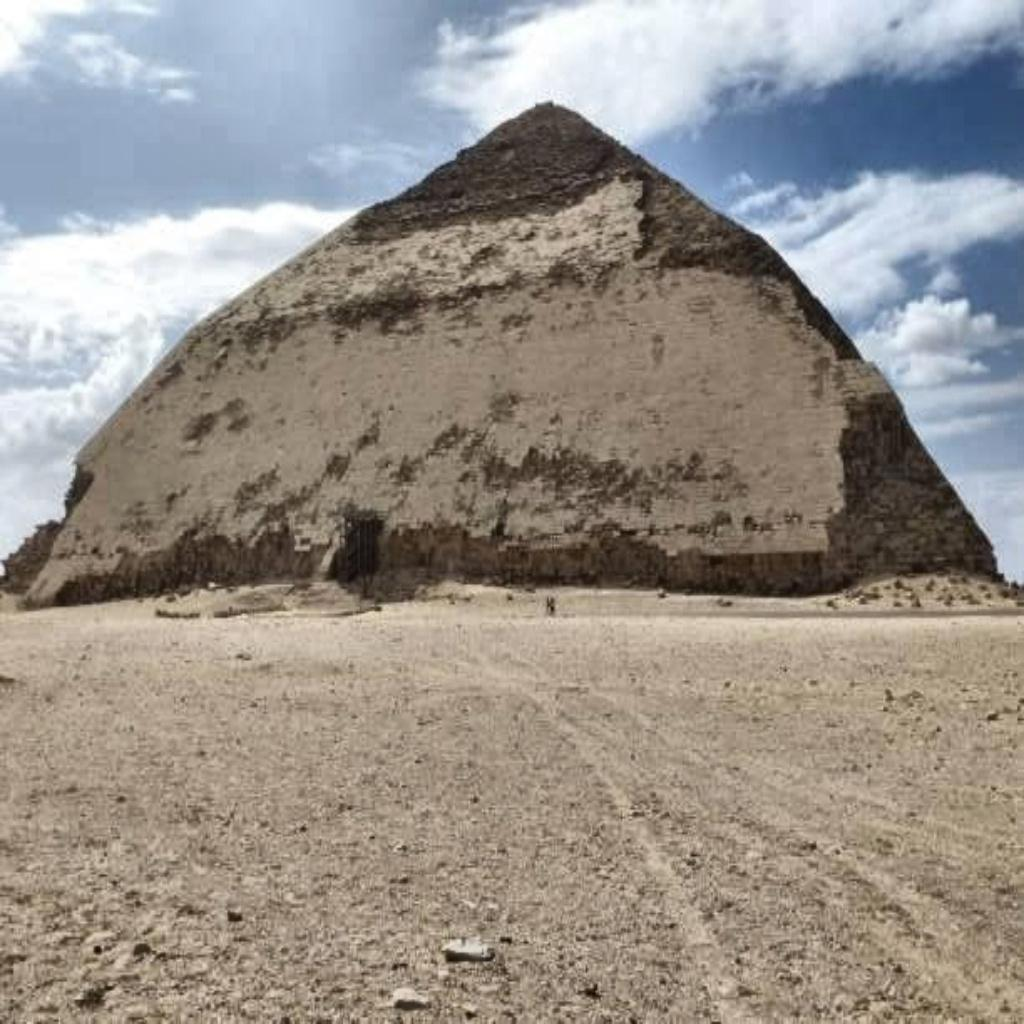Bent Pyramid of King Sneferu: (8, 94, 1004, 609)
